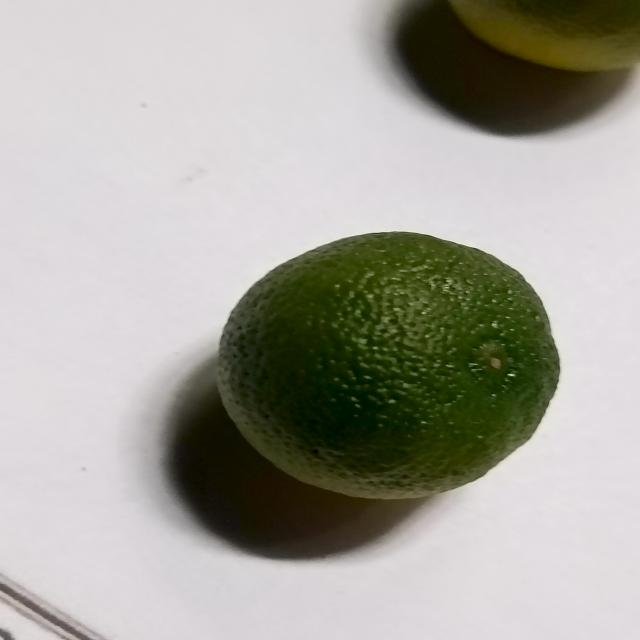heathy: (215, 230, 564, 502)
